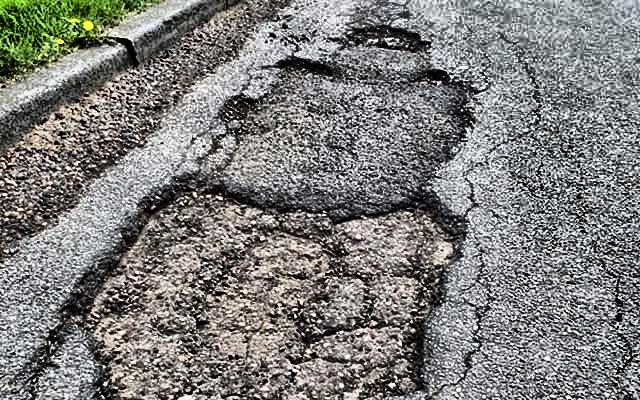pothole: (74, 177, 467, 400), (334, 26, 436, 56), (274, 58, 336, 79), (426, 67, 449, 86)
